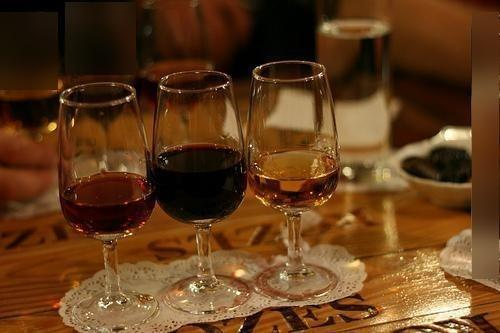glass-wine: (55, 81, 159, 331), (153, 71, 250, 313), (244, 60, 340, 302)
